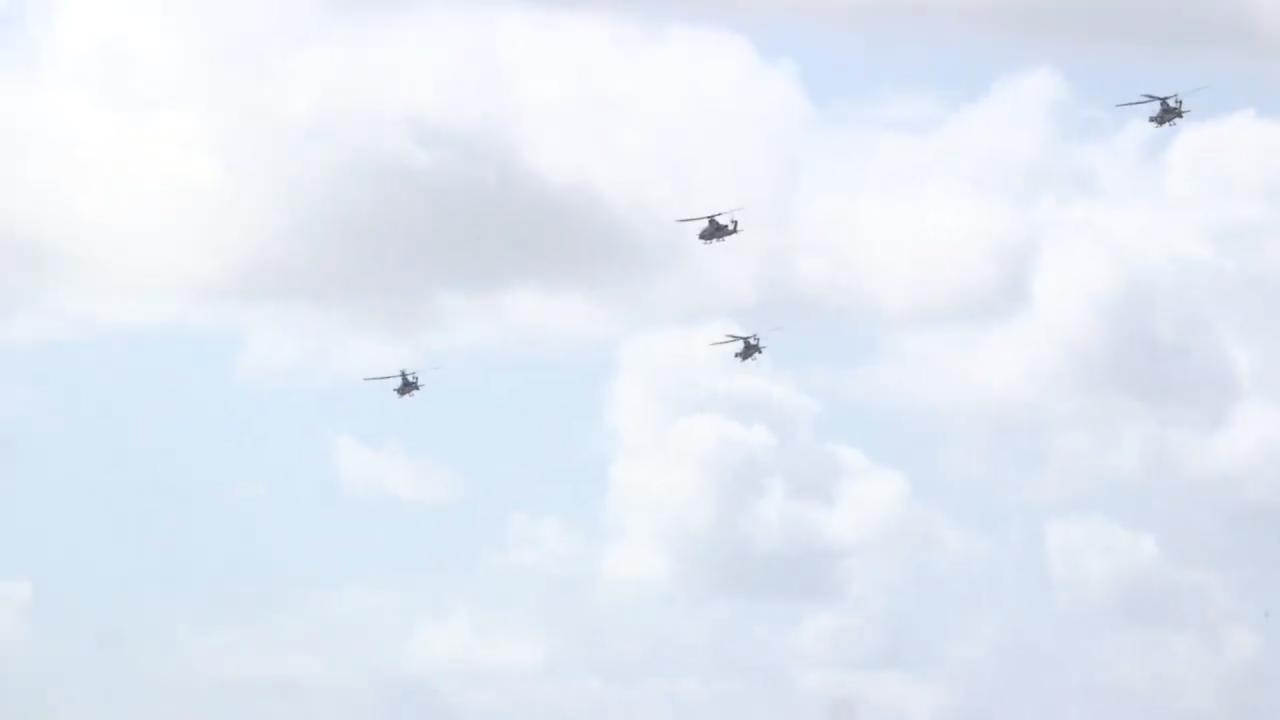Helicopter: (1103, 83, 1206, 139), (663, 199, 759, 252), (694, 323, 790, 369), (356, 356, 436, 408)
